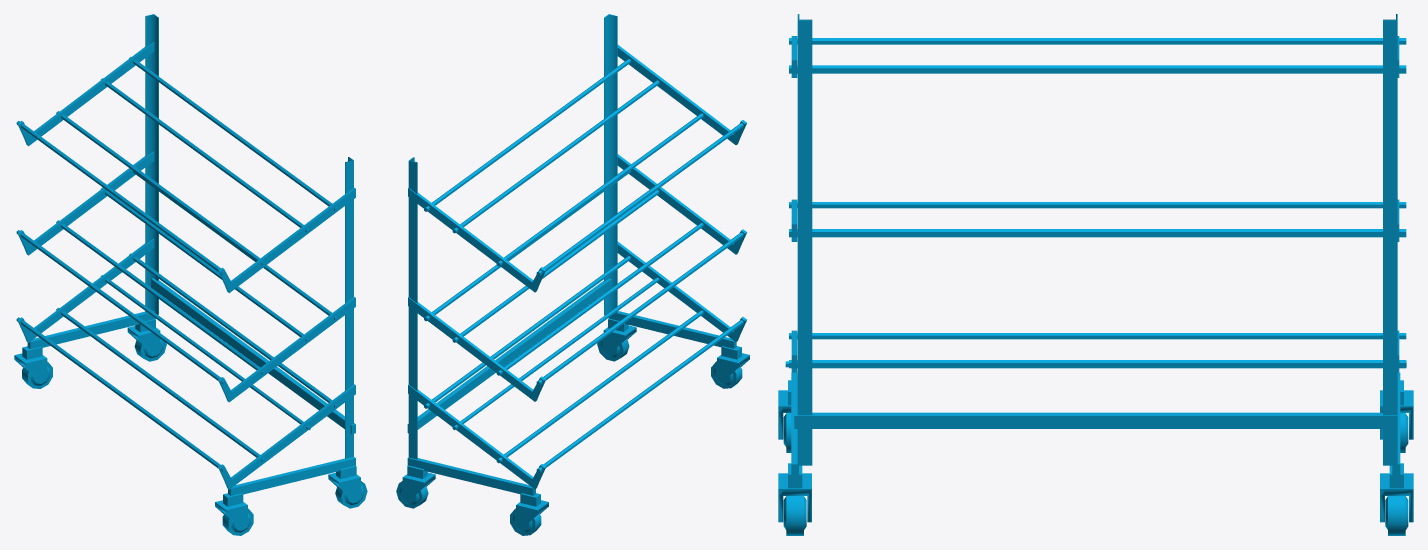
Rendered from Shop_Shelf_05_Lod0.fbx.
The picture shows the model from 3 angles, left to right: view 1: azimuth 30°, elevation 25°; view 2: azimuth 150°, elevation 25°; view 3: azimuth 270°, elevation 25°; orthographic projection. The views are drawn at different scales.
Parts seen in each view (by area): view 1: Shop_Shelf_05_Lod0; view 2: Shop_Shelf_05_Lod0; view 3: Shop_Shelf_05_Lod0.
Part boxes in pixels (x1=…): Shop_Shelf_05_Lod0: x1=14, y1=14, x2=367, y2=535; Shop_Shelf_05_Lod0: x1=396, y1=14, x2=749, y2=535; Shop_Shelf_05_Lod0: x1=778, y1=14, x2=1413, y2=535.
Size of the model in its own units: 69.78 by 157 by 176.
